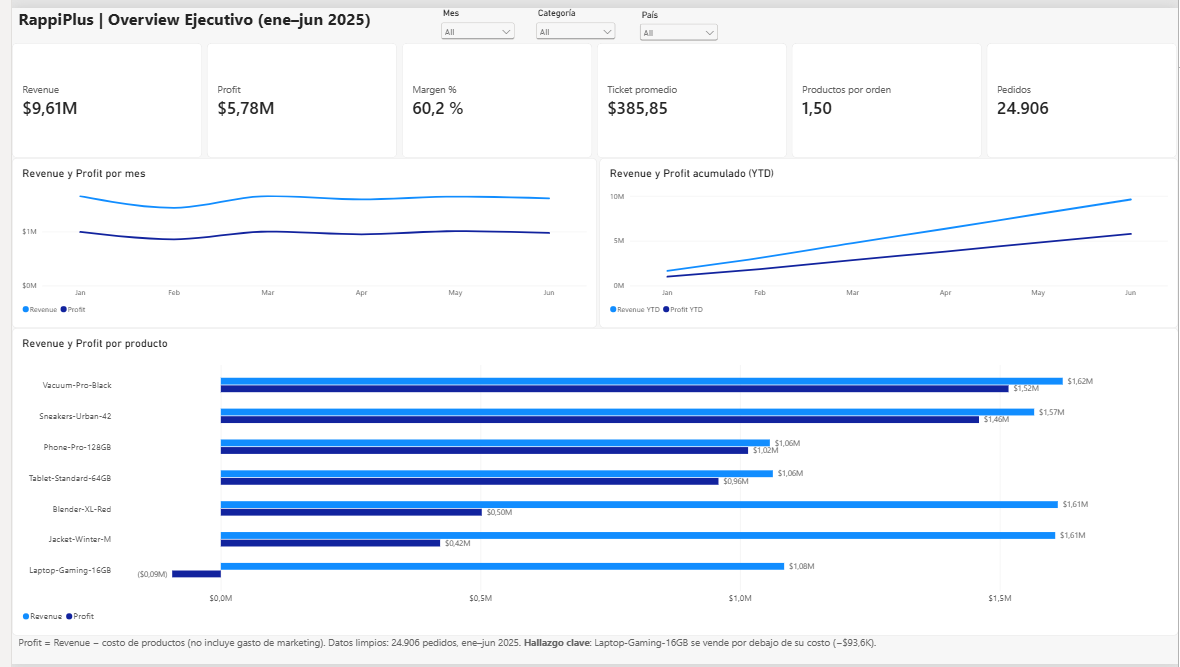

This screenshot's page, from the dashboard's own definition file:
{"tool":"powerbi","page":{"name":"Overview Ejecutivo","canvas":[1920,1080],"ordinal":0},"visuals":[{"type":"textbox","box":[10.3,0,592.8,61.7],"z":0},{"type":"cardVisual","fields":{"Data":["_Medidas.Revenue","_Medidas.Profit","_Medidas.Margen %","_Medidas.Ticket promedio","_Medidas.Productos por orden","_Medidas.Pedidos"]},"box":[0,57.6,1920.4,189.4],"z":1000},{"type":"lineChart","title":"Revenue y Profit por mes","fields":{"Category":["dim_fecha.Mes"],"Y":["_Medidas.Revenue","_Medidas.Profit"]},"box":[0,247,963.3,279.9],"z":2000},{"type":"lineChart","title":"Revenue y Profit acumulado (YTD)","fields":{"Category":["dim_fecha.Mes"],"Y":["_Medidas.Revenue YTD","_Medidas.Profit YTD"]},"box":[967.4,247,953,279.9],"z":3000},{"type":"clusteredBarChart","title":"Revenue y Profit por producto","fields":{"Category":["catalog_clean.nombre_producto"],"Y":["_Medidas.Revenue","_Medidas.Profit"]},"box":[0,526.9,1920.4,506.3],"z":4000},{"type":"slicer","fields":{"Values":["dim_fecha.Mes"]},"box":[702.1,0,130.2,61.3],"z":5000},{"type":"slicer","fields":{"Values":["catalog_clean.categoria_producto"]},"box":[857.9,0,140.4,58.7],"z":6000},{"type":"textbox","box":[10.3,1033.3,1910.1,47.3],"z":7000},{"type":"slicer","fields":{"Values":["orders_clean.pais"]},"box":[1028.9,2.6,137.9,59.7],"z":7001}]}

Visuals, with their boxes in screenshot pixels (x1, y1, x2, y2), scaled from the page's 1920x1080 canvas onto the 1180x667 screenshot:
textbox: pyautogui.locateOnScreen(6, 0, 371, 38)
cardVisual - _Medidas.Revenue x _Medidas.Profit: pyautogui.locateOnScreen(0, 36, 1179, 153)
"Revenue y Profit por mes" lineChart: pyautogui.locateOnScreen(0, 153, 592, 325)
"Revenue y Profit acumulado (YTD)" lineChart: pyautogui.locateOnScreen(595, 153, 1179, 325)
"Revenue y Profit por producto" clusteredBarChart: pyautogui.locateOnScreen(0, 325, 1179, 638)
slicer - dim_fecha.Mes: pyautogui.locateOnScreen(431, 0, 512, 38)
slicer - catalog_clean.categoria_producto: pyautogui.locateOnScreen(527, 0, 614, 36)
textbox: pyautogui.locateOnScreen(6, 638, 1179, 666)
slicer - orders_clean.pais: pyautogui.locateOnScreen(632, 2, 717, 38)
